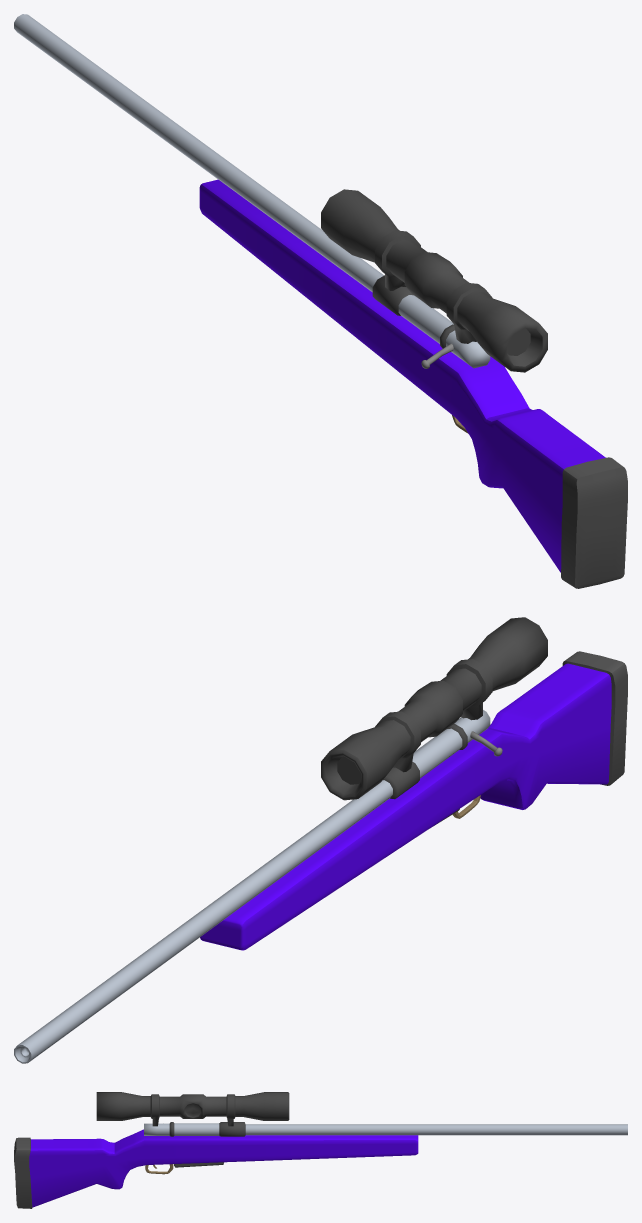
File: sniperblauw.fbx
3 renders of one model, top to bottom at view 1: azimuth 30°, elevation 25°; view 2: azimuth 150°, elevation 25°; view 3: azimuth 270°, elevation 25°, orthographic. The views are drawn at different scales.
Visible parts, largest first — view 1: SniperBase.Rood, SniperScope.rood; view 2: SniperBase.Rood, SniperScope.rood; view 3: SniperBase.Rood, SniperScope.rood.
Boxes of the visible parts, x1,y1,x2,y2 form: SniperBase.Rood: (199, 179, 627, 588); SniperScope.rood: (14, 14, 547, 372); SniperBase.Rood: (200, 651, 627, 950); SniperScope.rood: (14, 617, 547, 1063); SniperBase.Rood: (14, 1129, 418, 1208); SniperScope.rood: (96, 1092, 627, 1136).
Bounding box in the file's own units: 7.88 × 23.85 × 120.
